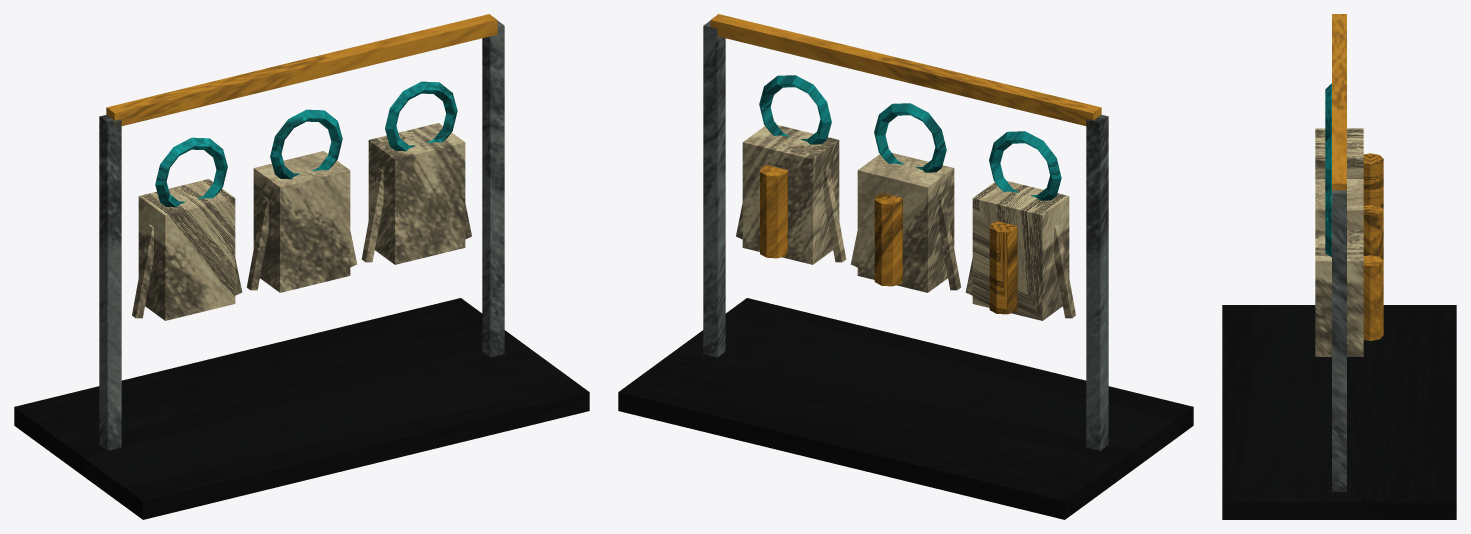
Rendered from east-suit-cache-rack.glb.
3 renders of one model, left to right at view 1: azimuth 30°, elevation 25°; view 2: azimuth 150°, elevation 25°; view 3: azimuth 270°, elevation 25°, orthographic. The views are drawn at different scales.
Visible parts, largest first — view 1: east-suit-cache-rack; view 2: east-suit-cache-rack; view 3: east-suit-cache-rack.
Part boxes in pixels (x1,y1,x2,y2): east-suit-cache-rack: [14, 14, 589, 519]; east-suit-cache-rack: [618, 14, 1193, 519]; east-suit-cache-rack: [1222, 14, 1456, 519].
Size of the model in its own units: 7 by 5.31 by 3.5.
1 material, 1 textured.
